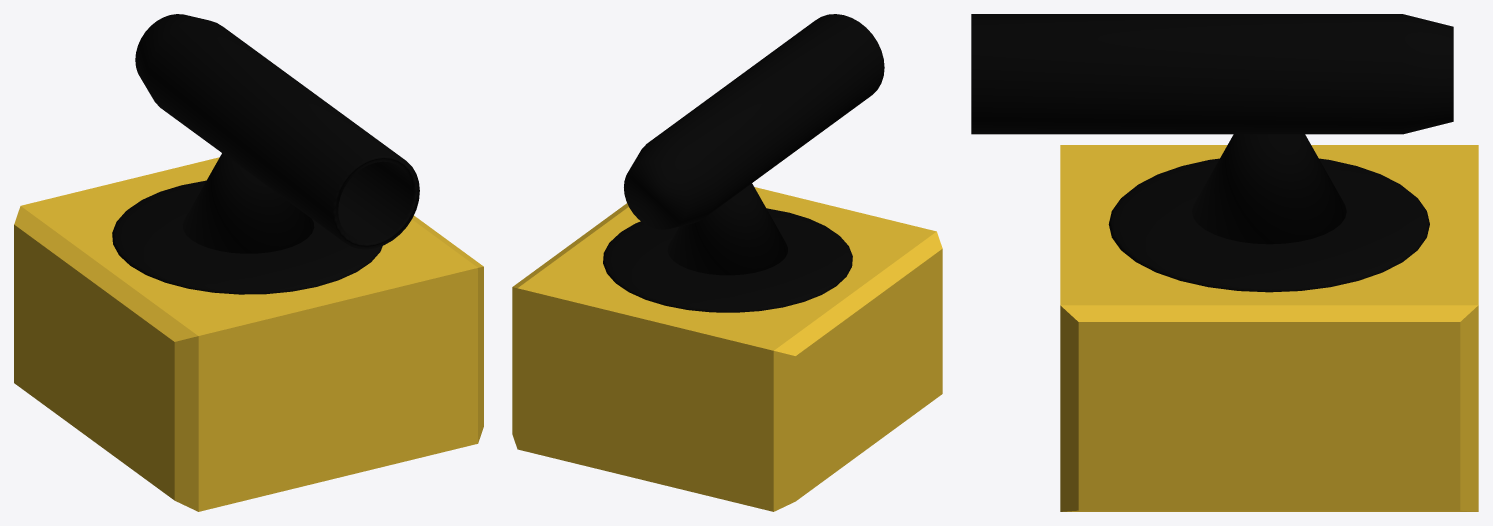
Rendered from cannon.fbx.
The picture shows the model from 3 angles, left to right: view 1: azimuth 30°, elevation 25°; view 2: azimuth 150°, elevation 25°; view 3: azimuth 270°, elevation 25°; orthographic projection. The views are drawn at different scales.
Visible parts, largest first — view 1: Cube, Cylinder, Sphere, Cone; view 2: Cube, Cylinder, Sphere, Cone; view 3: Cube, Cylinder, Sphere, Cone.
Boxes of the visible parts, x1,y1,x2,y2 form: Cube: [14, 157, 483, 511]; Cylinder: [135, 14, 419, 249]; Sphere: [112, 180, 382, 294]; Cone: [182, 153, 314, 253]; Cube: [512, 187, 942, 511]; Cylinder: [624, 14, 884, 229]; Sphere: [603, 208, 852, 312]; Cone: [667, 183, 787, 275]; Cube: [1060, 145, 1478, 511]; Cylinder: [971, 14, 1453, 134]; Sphere: [1108, 158, 1429, 292]; Cone: [1192, 134, 1346, 244].
Bounding box in the file's own units: 530 × 576 × 643.
